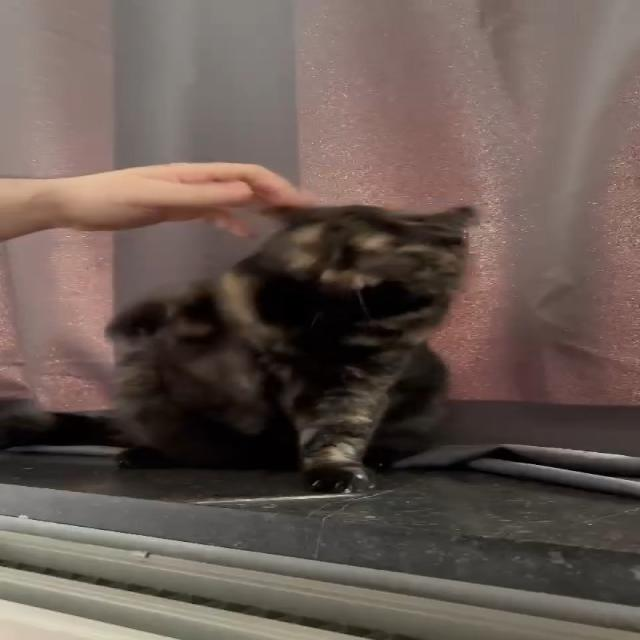authorized: (100, 202, 479, 494)
